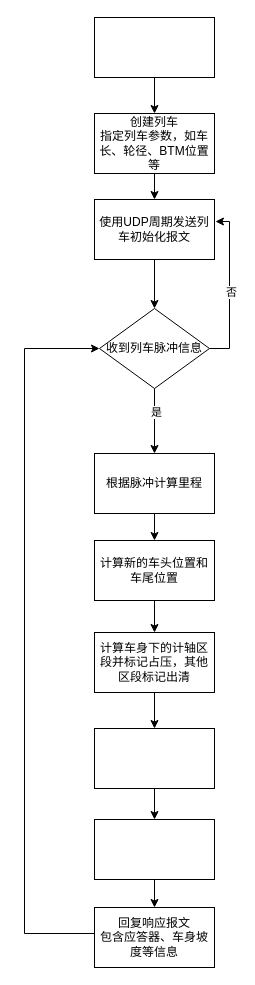
The diagram is 255 pixels wide and 985 high, and some of its shapes have lost their labels. Each missing label, with the box of its shape:
线路数据初始化: (94, 16, 214, 78)
计算到前方应答器的距离及应答器报文: (94, 728, 214, 788)
计算车身坡度: (94, 818, 214, 880)
